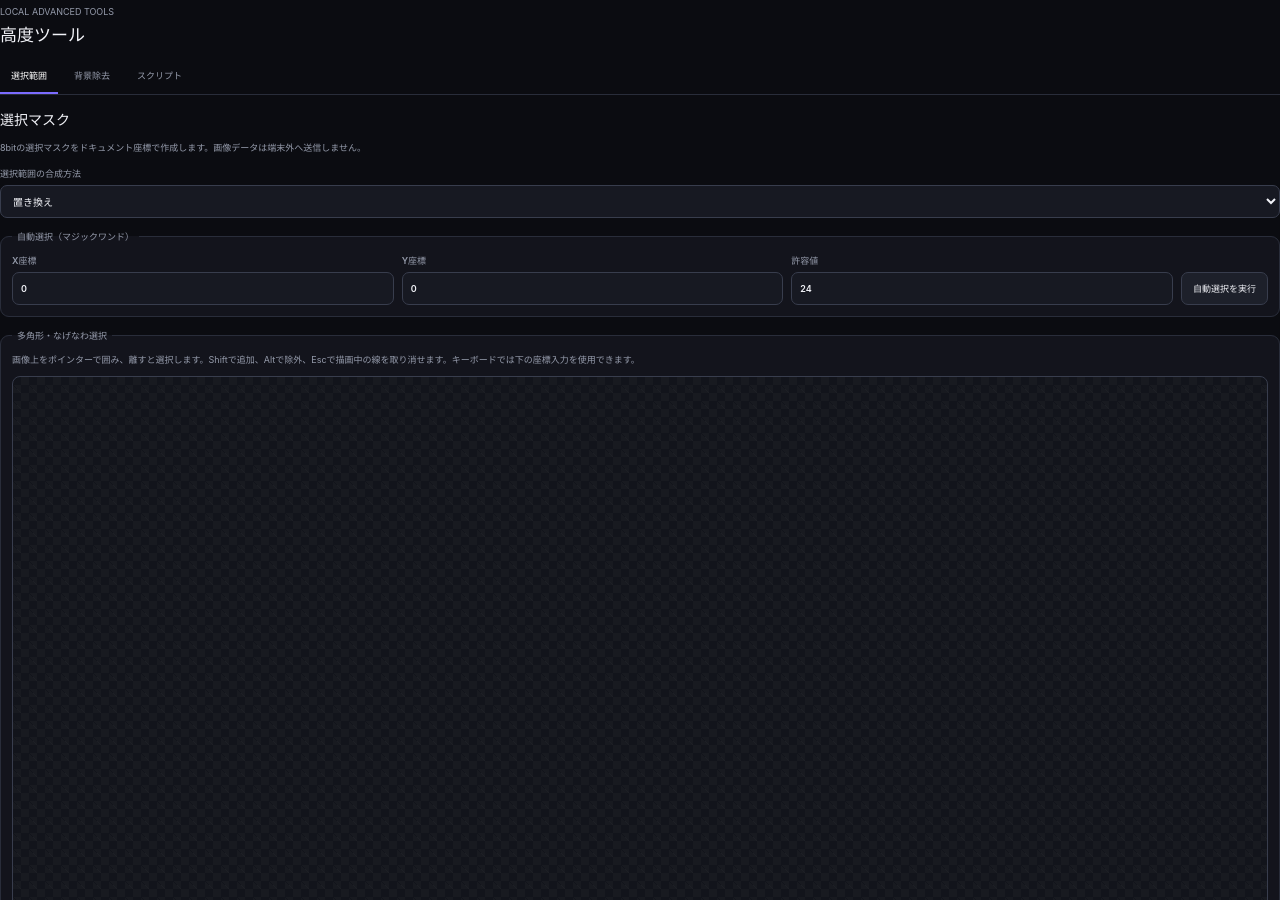
Test: AdvancedToolsPanel › never loads a model before consent and supports cancellation
This screenshot has width=1280, height=900.
Click the tab "背景除去": (92, 77) [63,60,121,94]
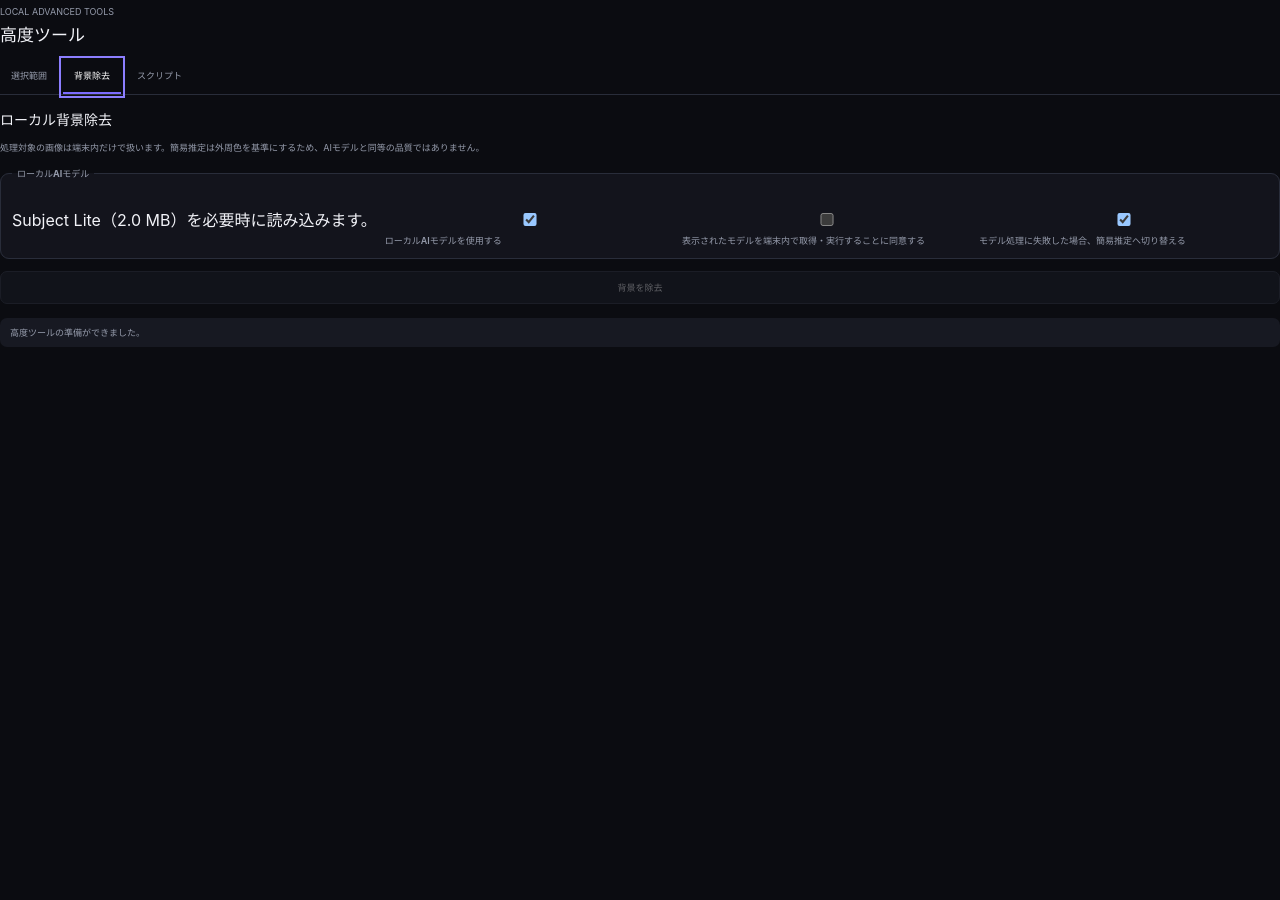
expect the text "Subject Lite（2.0 MB）を必要時に読み込みます。" is shown: met, box [12,207,377,231]
expect the button "背景を除去" is disabled: met, box [0,271,1279,304]
Click the checkbox labelled "表示されたモデルを端末内で取得・実行することに同意する": (827, 220) [686,213,968,226]
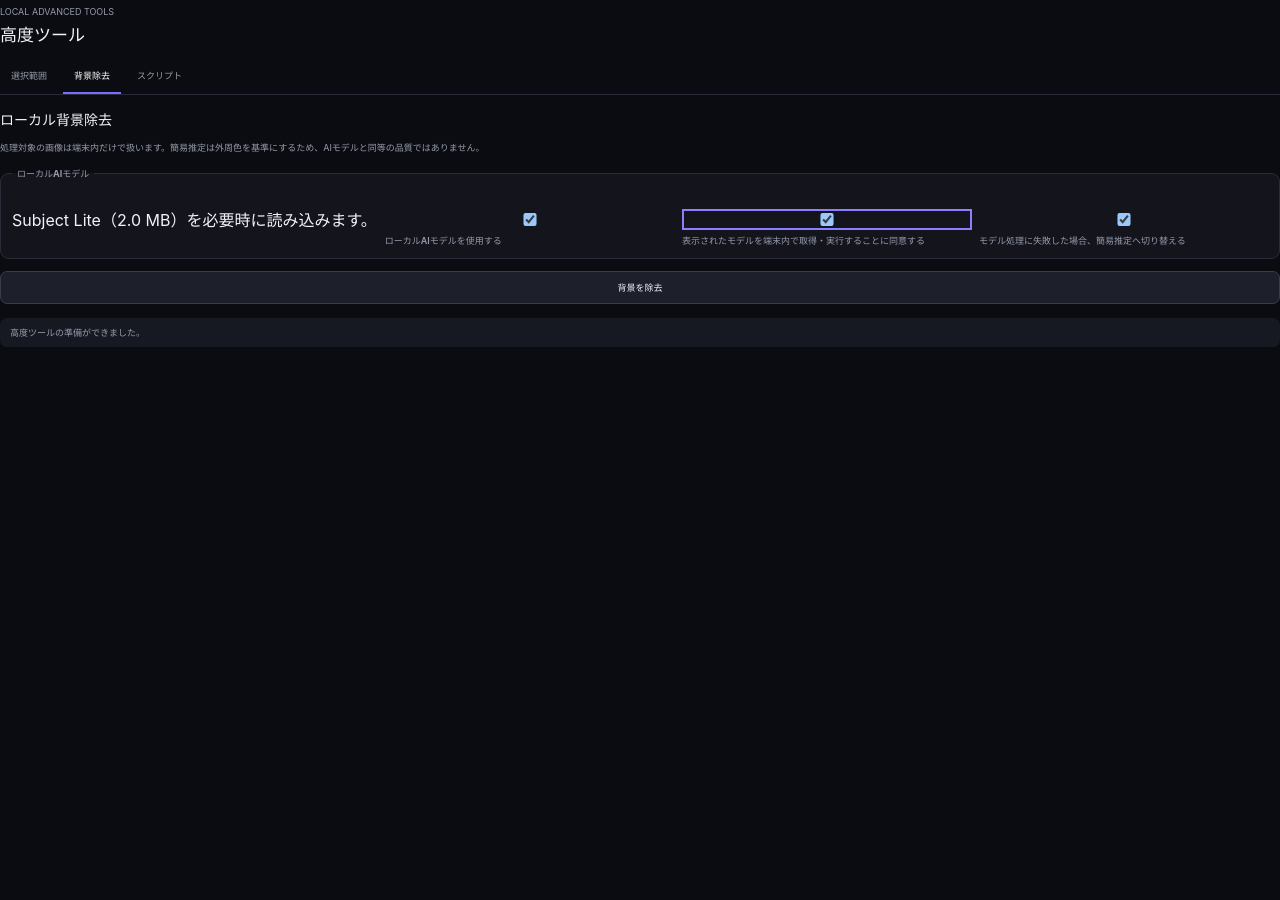
expect the button "背景を除去" is enabled: met
Click the button "背景を除去": (640, 288) [0,271,1279,304]
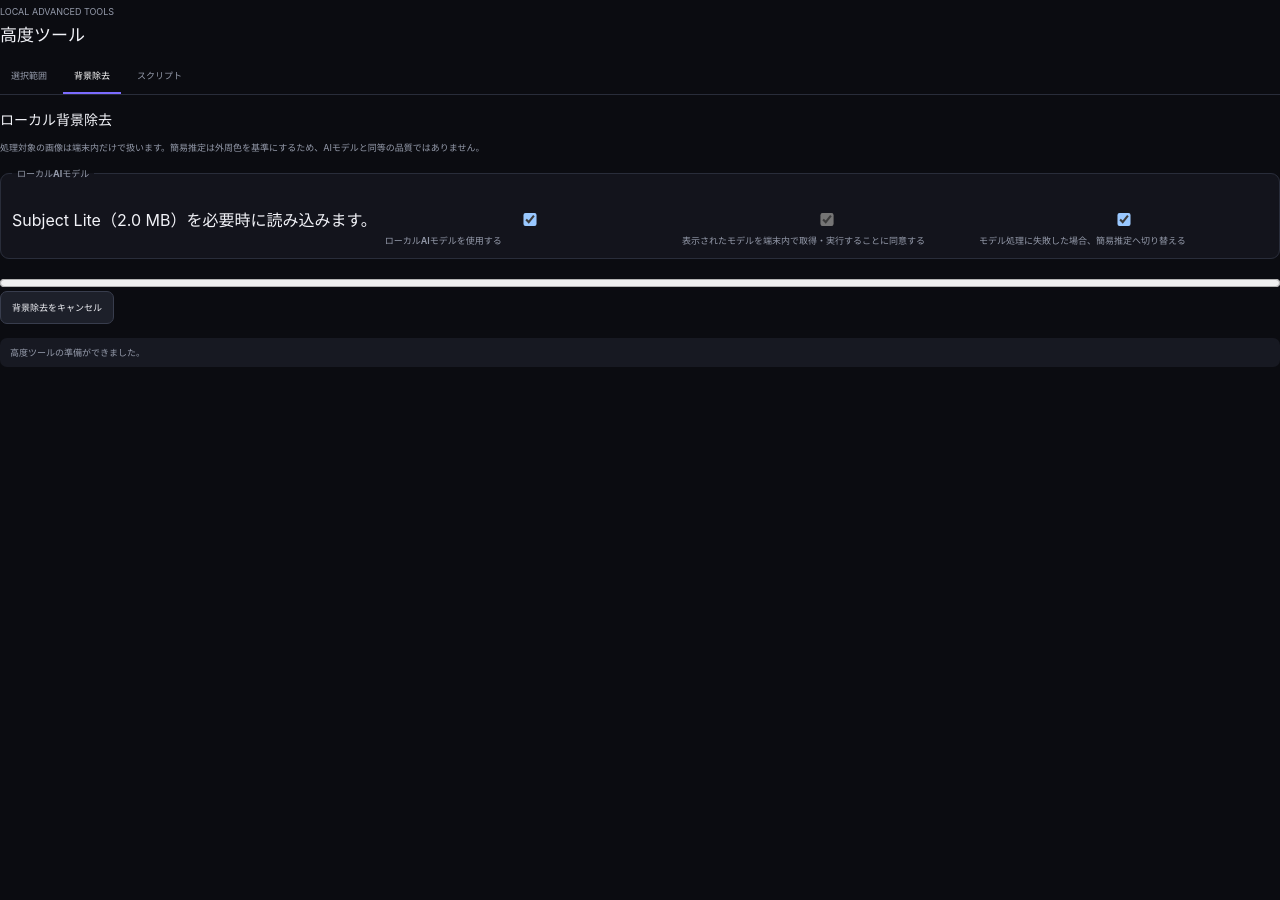
Click the button "背景除去をキャンセル": (57, 308) [0,291,114,324]
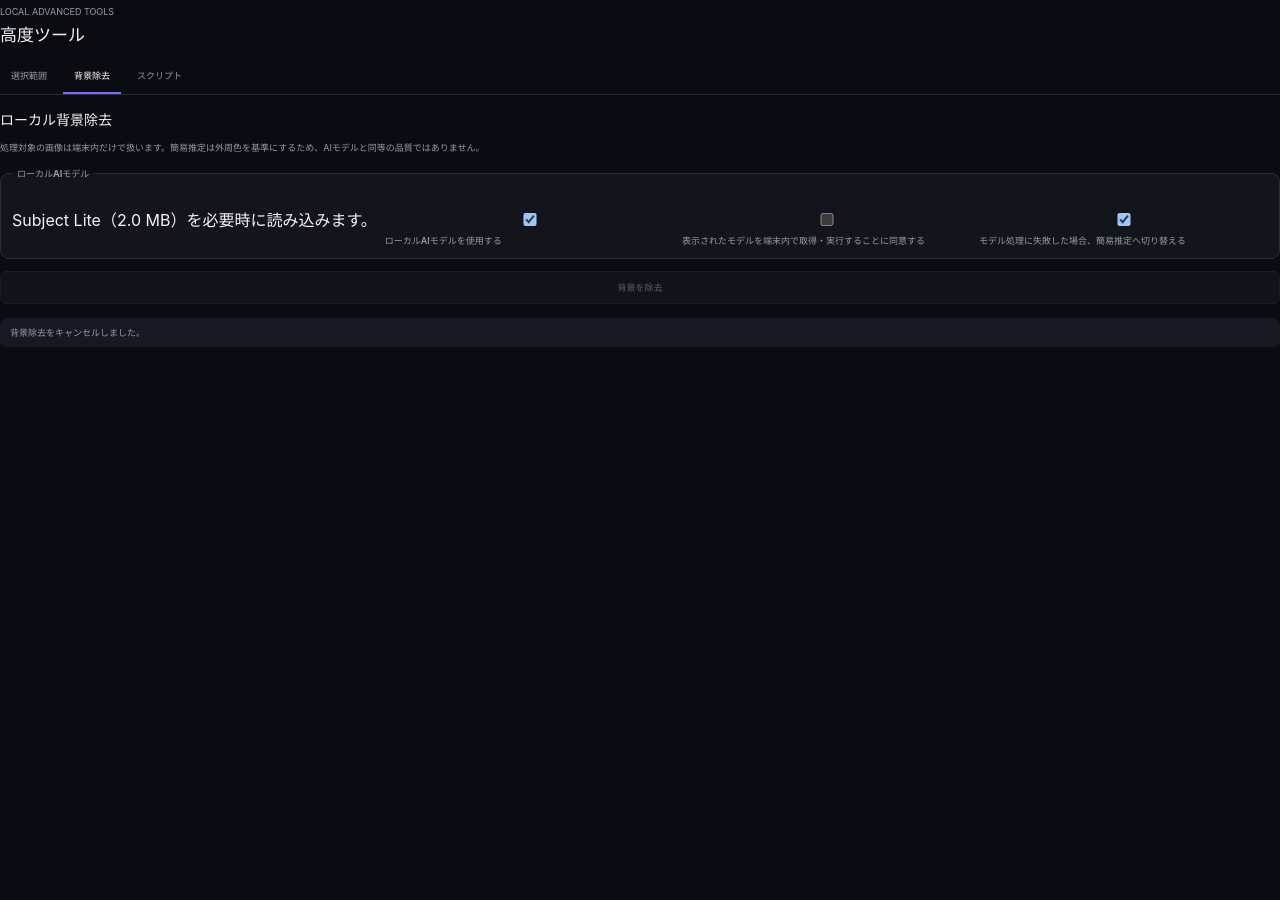
expect the checkbox labelled "表示されたモデルを端末内で取得・実行することに同意する" is not checked: met, box [686,213,968,226]
expect the message reads "背景除去をキャンセルしました。": met, box [10,327,145,338]
expect the button "背景を除去" is disabled: met, box [0,271,1279,304]
